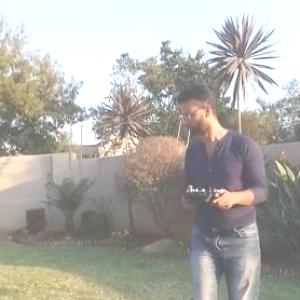follow: (175, 74, 272, 299)
